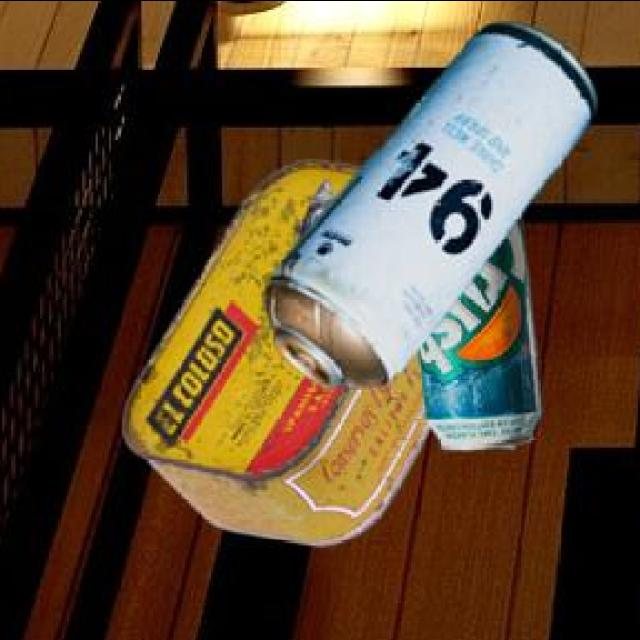logam: (261, 26, 594, 390), (119, 163, 428, 548), (414, 217, 537, 452)
